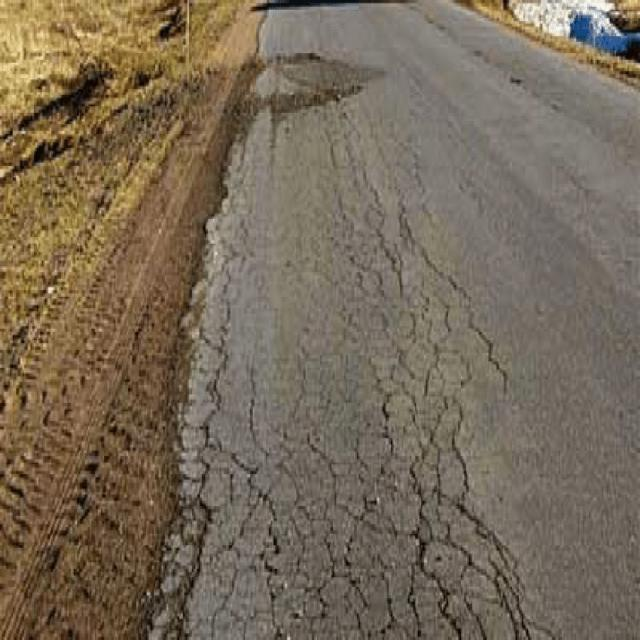Pothole: (38, 49, 433, 640)
